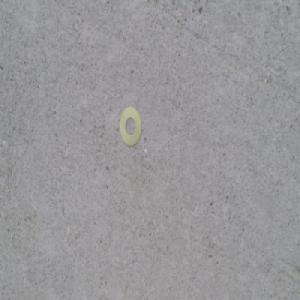Washer: (120, 105, 143, 147)
